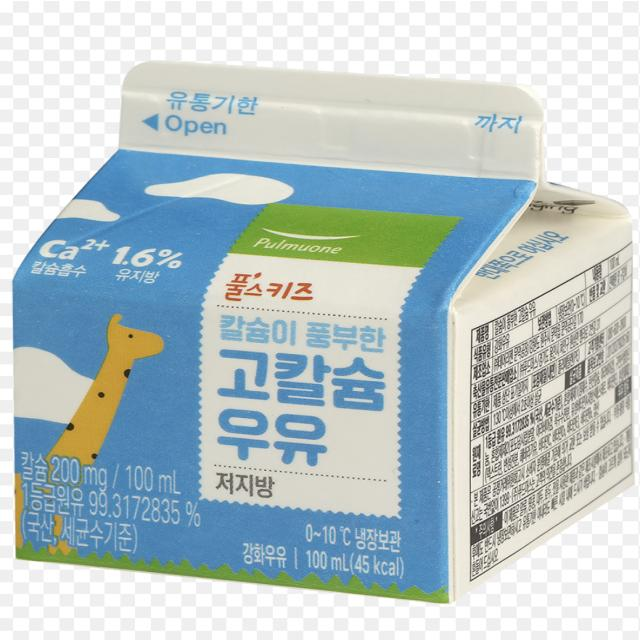biodegradable: (6, 25, 640, 628)
